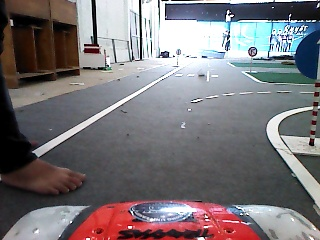straight: (295, 29, 320, 79)
